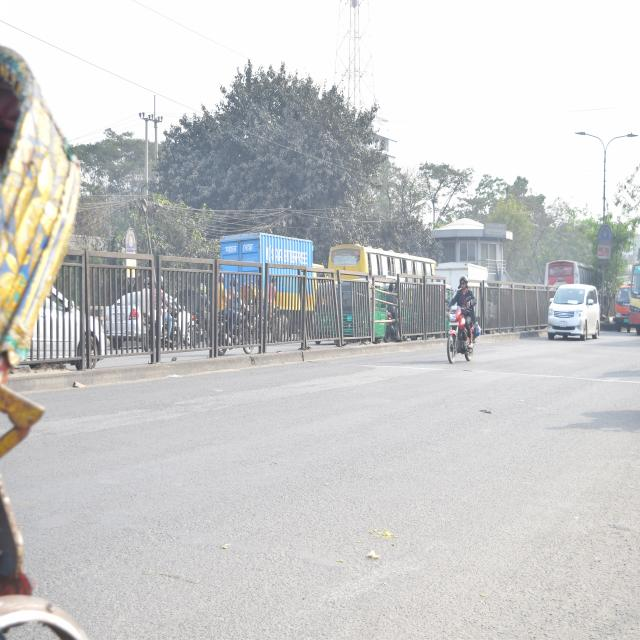bus: (625, 256, 640, 347)
car: (544, 268, 600, 347)
motorbike: (438, 273, 480, 383)
pickup-van: (611, 273, 631, 336)
